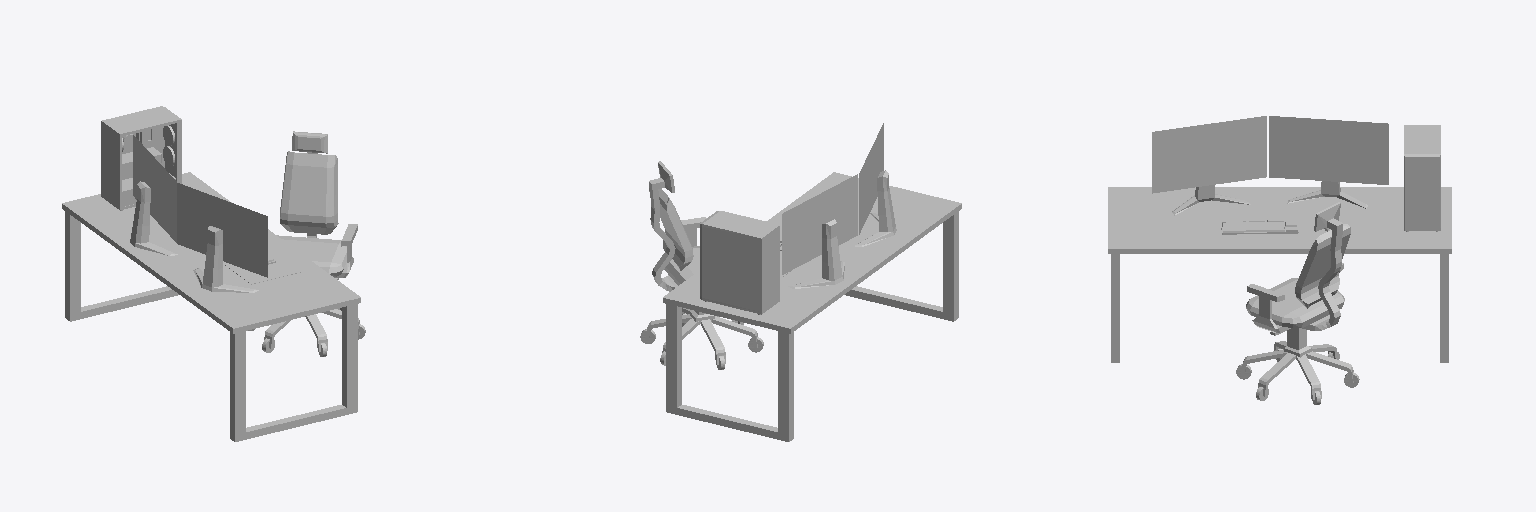
The model's file is testpcmesh1.obj.
The picture shows the model from 3 angles: view 1: azimuth 30°, elevation 25°; view 2: azimuth 150°, elevation 25°; view 3: azimuth 270°, elevation 25°; orthographic projection.
Visible parts, largest first — view 1: model_0, model_6, model_1, model_12, model_2, model_7, model_11, model_3, model_10; view 2: model_0, model_1, model_2, model_6, model_11, model_7, model_12, model_3; view 3: model_0, model_6, model_11, model_12, model_4, model_10, model_1, model_7, model_2, model_8.
Part boxes in pixels (bbox=[...]): model_0: bbox=[62, 172, 360, 333]; model_6: bbox=[133, 135, 267, 277]; model_1: bbox=[65, 211, 357, 441]; model_12: bbox=[277, 131, 346, 276]; model_2: bbox=[102, 106, 181, 210]; model_7: bbox=[130, 181, 258, 292]; model_11: bbox=[248, 152, 365, 356]; model_3: bbox=[101, 121, 119, 209]; model_10: bbox=[223, 249, 300, 284]; model_0: bbox=[663, 172, 961, 333]; model_1: bbox=[666, 211, 958, 441]; model_2: bbox=[700, 211, 779, 314]; model_6: bbox=[782, 123, 883, 274]; model_11: bbox=[640, 163, 763, 369]; model_7: bbox=[788, 170, 896, 288]; model_12: bbox=[649, 161, 699, 285]; model_3: bbox=[762, 226, 779, 313]; model_0: bbox=[1108, 187, 1451, 253]; model_6: bbox=[1152, 116, 1388, 193]; model_11: bbox=[1236, 203, 1359, 404]; model_12: bbox=[1246, 202, 1350, 327]; model_4: bbox=[1405, 155, 1440, 230]; model_10: bbox=[1190, 215, 1369, 238]; model_1: bbox=[1111, 254, 1448, 362]; model_7: bbox=[1172, 181, 1367, 215]; model_2: bbox=[1404, 125, 1440, 231]; model_8: bbox=[1221, 219, 1298, 234].
Size of the model in its own units: 5.11 by 4.45 by 7.